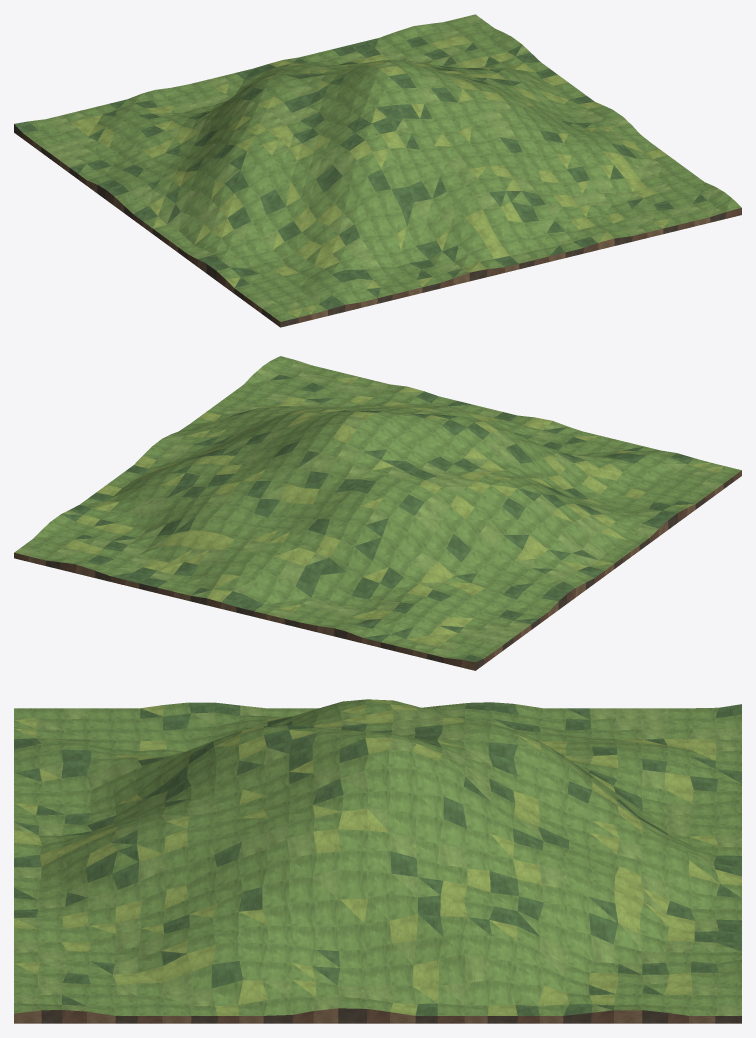
Rendered from hill_round_L.fbx.
3 views of the same model, one above another, from view 1: azimuth 30°, elevation 25°; view 2: azimuth 150°, elevation 25°; view 3: azimuth 270°, elevation 25° (orthographic). The views are drawn at different scales.
Parts seen in each view (by area): view 1: hill_round_L; view 2: hill_round_L; view 3: hill_round_L.
Part boxes in pixels (x1,y1,x2,y2): hill_round_L: [14, 14, 741, 327]; hill_round_L: [14, 356, 741, 670]; hill_round_L: [14, 699, 741, 1023].
Size of the model in its own units: 7000 by 1450 by 7000.
Materials: 1 (1 with a texture image).
